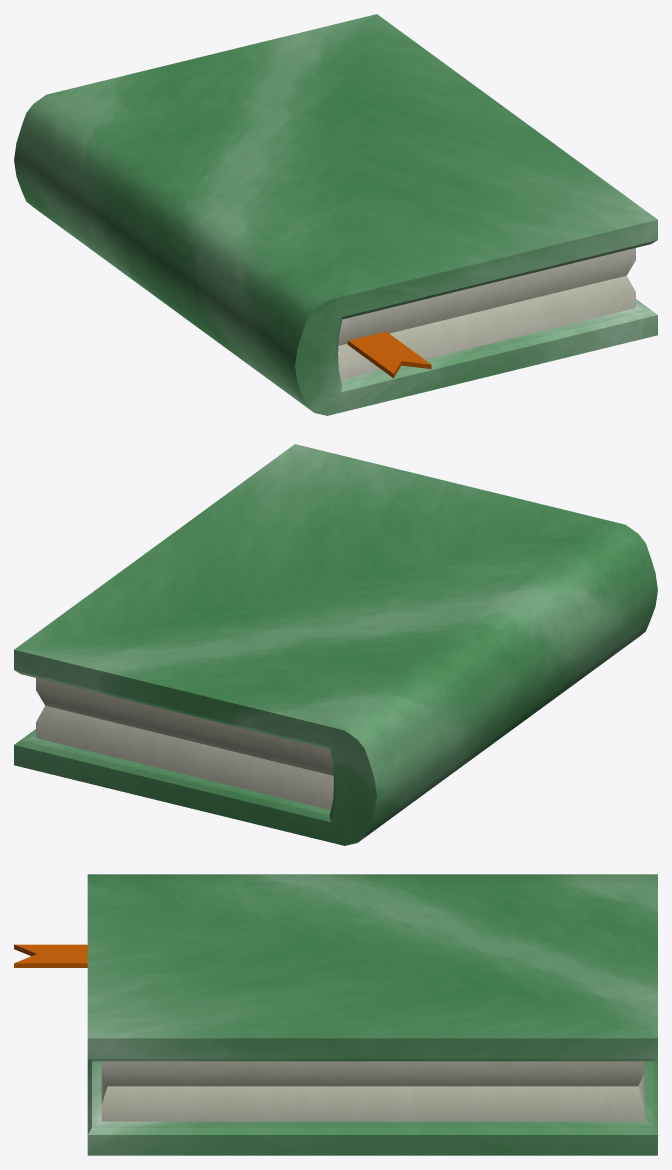
The model's file is Livro fechado.fbx.
3 views of the same model, one above another, from view 1: azimuth 30°, elevation 25°; view 2: azimuth 150°, elevation 25°; view 3: azimuth 270°, elevation 25° (orthographic).
Parts seen in each view (by area): view 1: Cube.002; view 2: Cube.002; view 3: Cube.002.
Part boxes in pixels (x1=…): Cube.002: x1=14, y1=14, x2=657, y2=415; Cube.002: x1=14, y1=444, x2=657, y2=845; Cube.002: x1=14, y1=874, x2=657, y2=1155.
Bounding box in the file's own units: 31.76 × 9.66 × 48.1.
